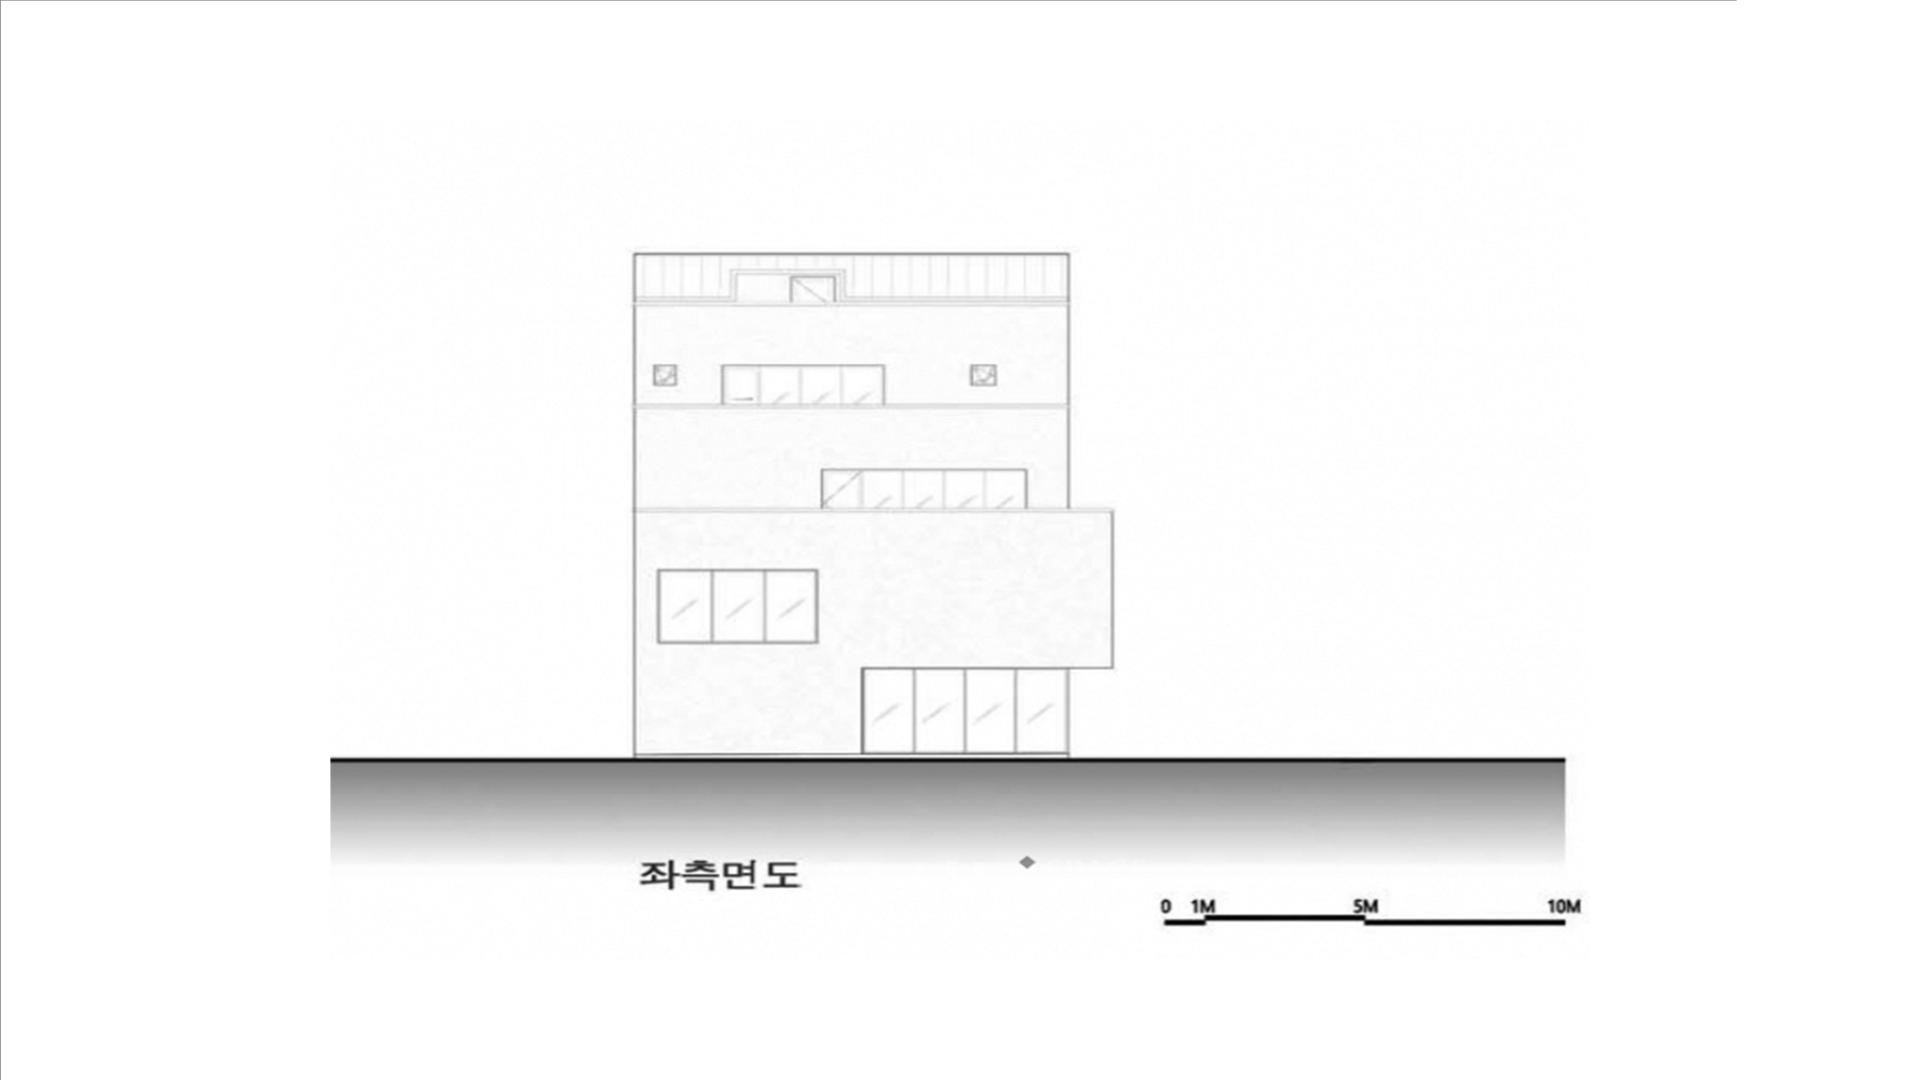door: (790, 275, 836, 303)
wall: (633, 253, 1112, 762)
window: (861, 668, 1069, 754), (656, 570, 818, 643), (822, 469, 1027, 509), (722, 365, 884, 405), (654, 364, 677, 386), (973, 365, 996, 387)
